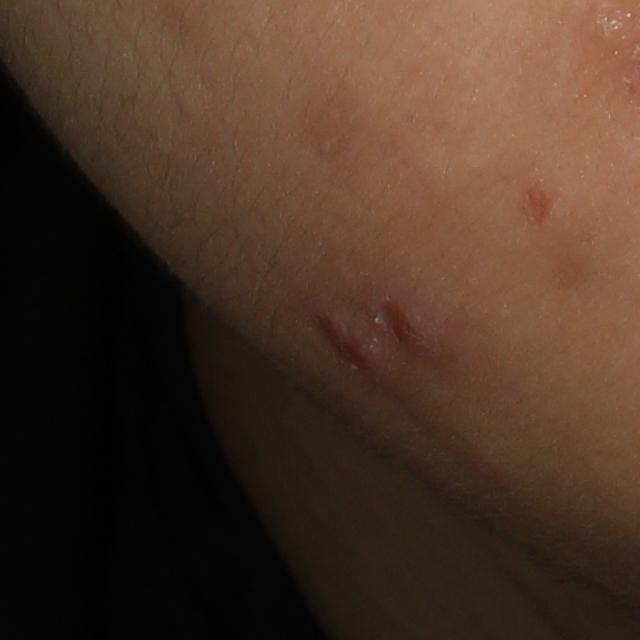papule: (313, 309, 381, 374), (382, 298, 433, 354)
